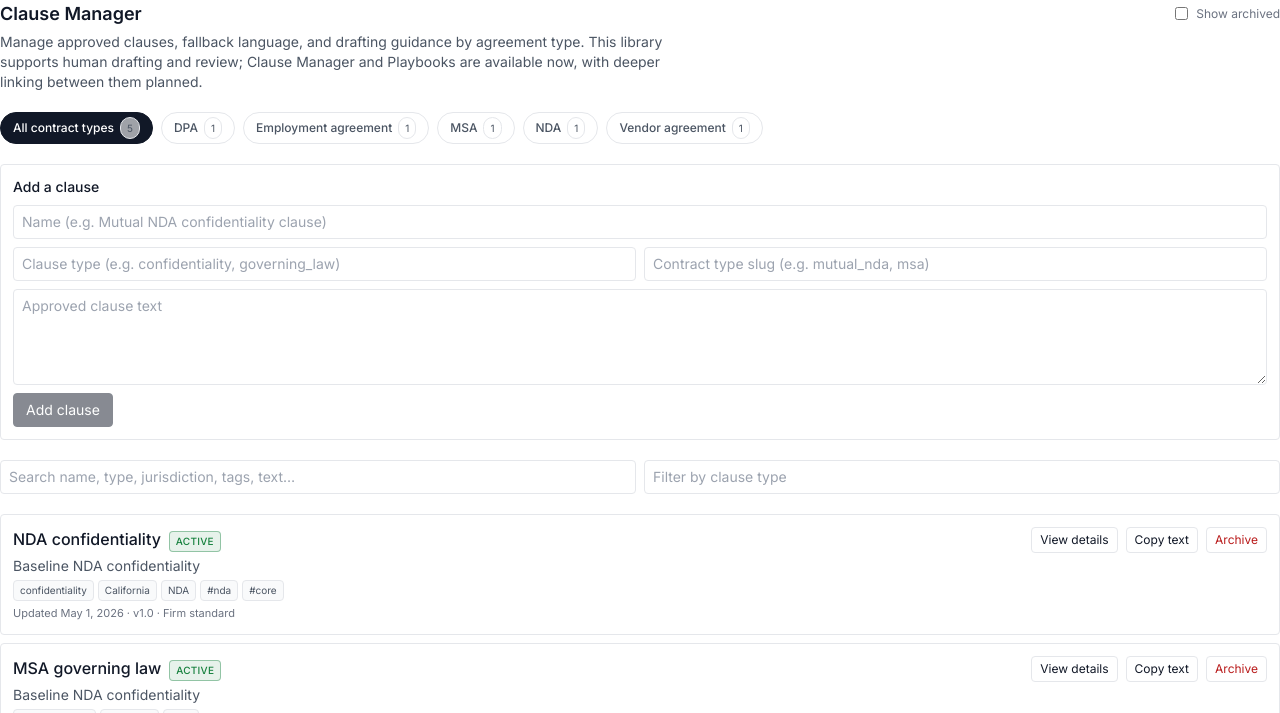
it: ClauseLibraryPage › filters the visible clause list when a contract-type chip is selected and resets via All contract types
Check: the text "NDA confidentiality" is shown, box [13,527,161,551]
Click the button with test id "clause-contract-type-chip": click(476, 128) [437,112,514,144]
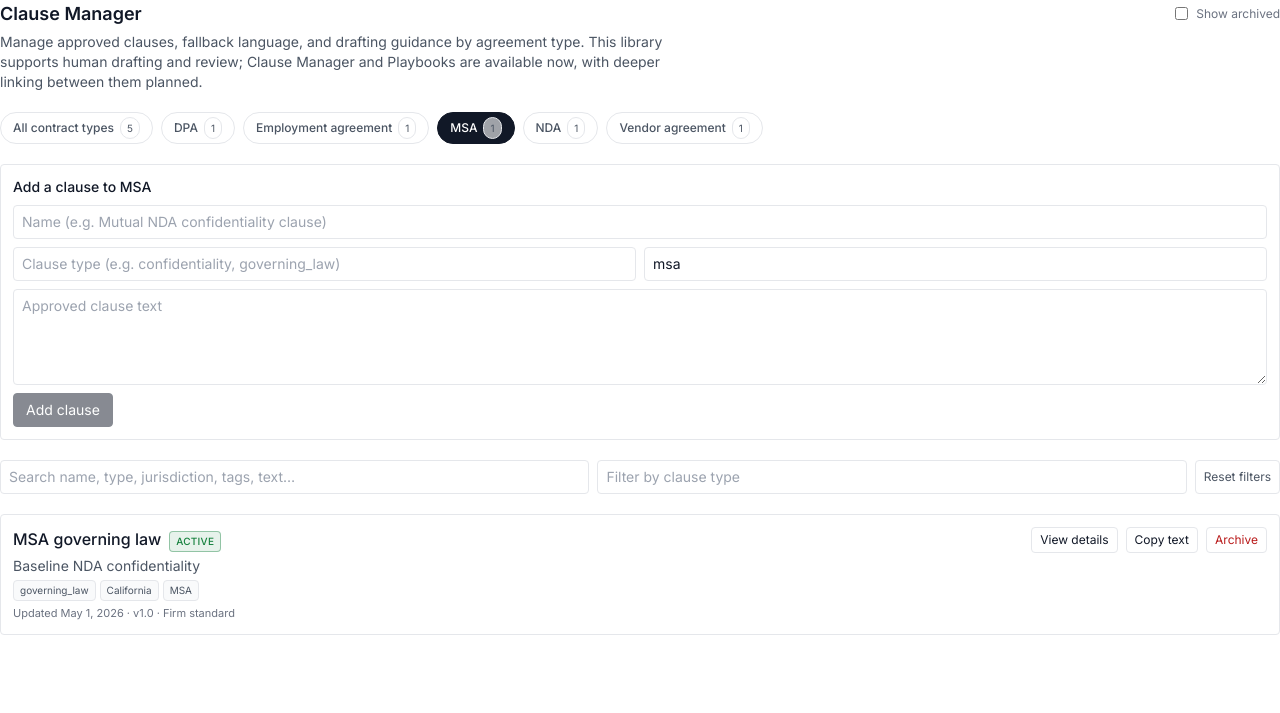
Check: the text "MSA governing law" is shown, box [13,527,161,551]
# All contract types resets the filter.
Click the button with test id "clause-contract-type-all": click(76, 128) [0,112,153,144]
(page scrolled)
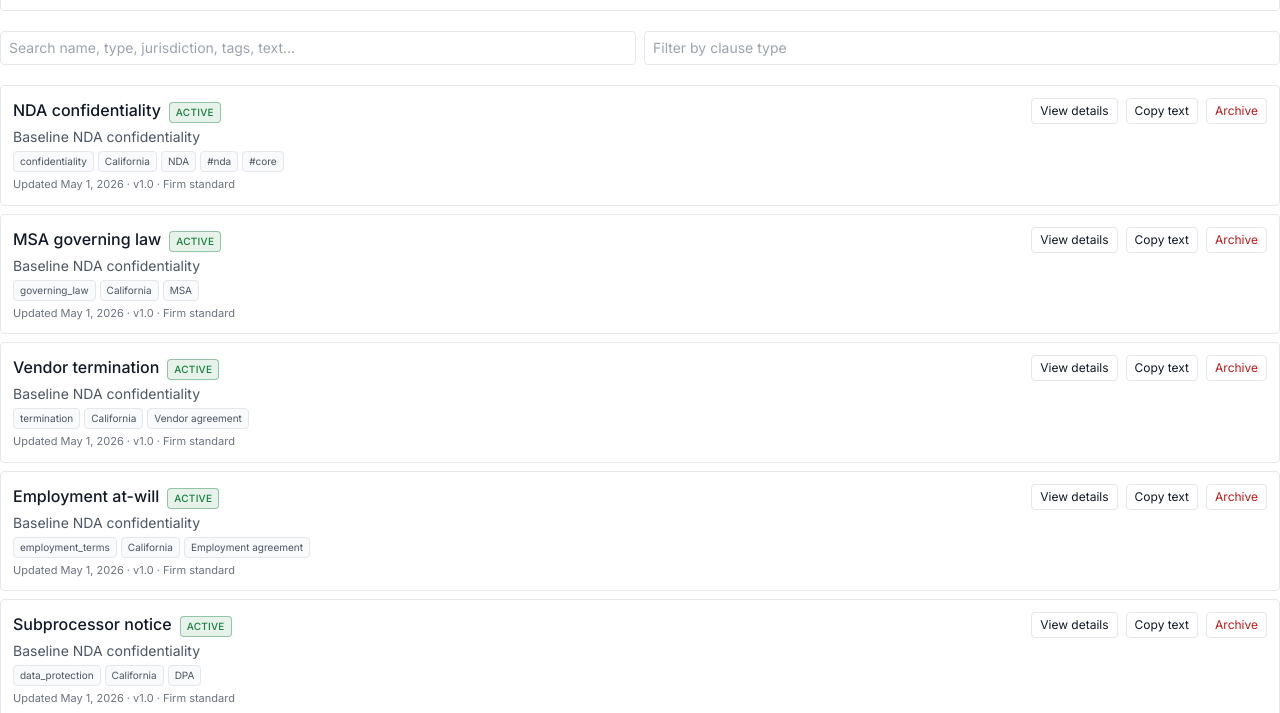
Check: the text "NDA confidentiality" is shown, box [13,98,161,122]
Check: the text "Vendor termination" is shown, box [13,355,159,379]
